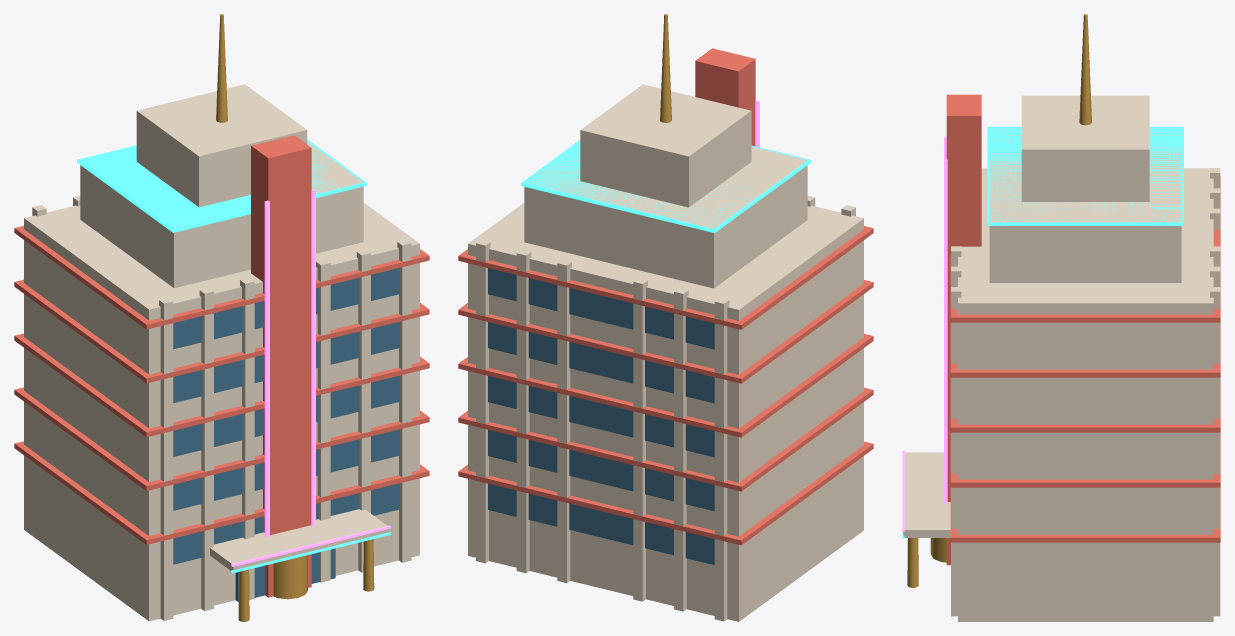
Rendered from building_artdeco.glb.
3 renders of one model, left to right at view 1: azimuth 30°, elevation 25°; view 2: azimuth 150°, elevation 25°; view 3: azimuth 270°, elevation 25°, orthographic. The views are drawn at different scales.
Parts seen in each view (by area): view 1: building_artdeco; view 2: building_artdeco; view 3: building_artdeco.
Boxes of the visible parts, x1=… form: building_artdeco: x1=14, y1=14, x2=429, y2=621; building_artdeco: x1=458, y1=14, x2=873, y2=621; building_artdeco: x1=902, y1=14, x2=1220, y2=621.
Bounding box in the file's own units: 20.9 × 37.25 × 19.93.
